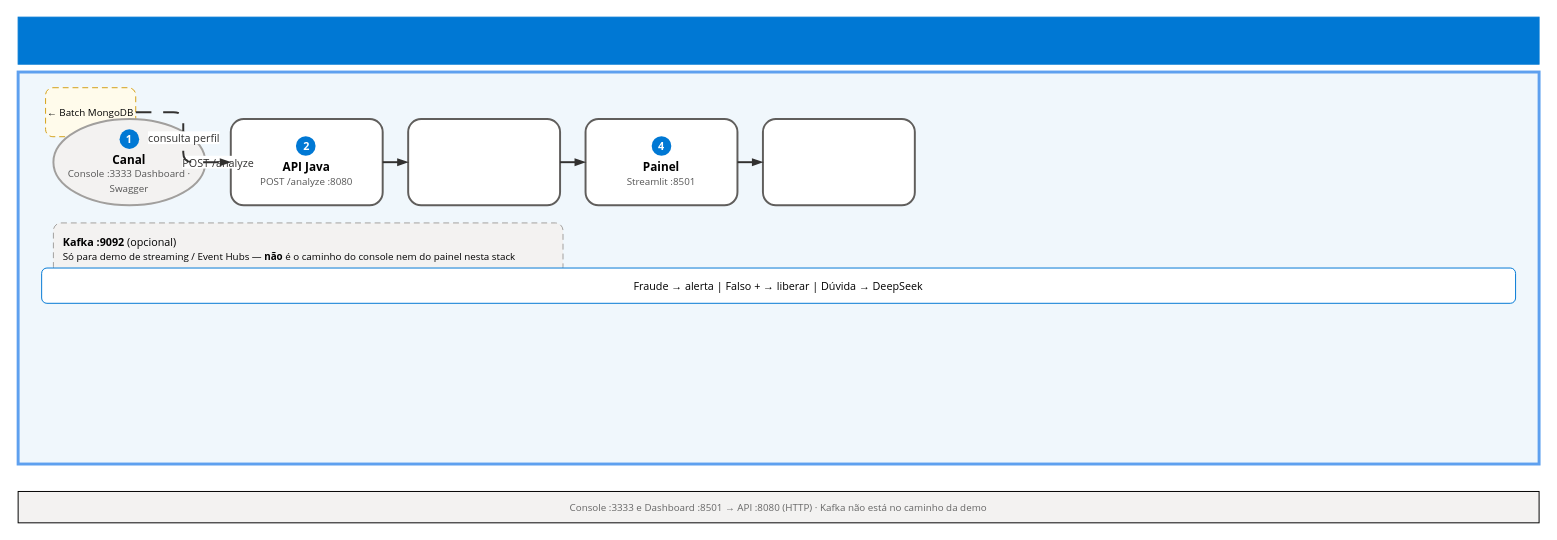
The diagram is 1557 pixels wide and 540 high, and some of its shapes have lost their labels. The shapes that lost their labels are listed below. From the top down, each one's centre as x and y in pixels, then its label:
(x=778, y=40): 02 — ARQUITETURA ONLINE Fluxo horizontal · tempo real
(x=484, y=162): 3 Decisão Score + perfil MongoDB
(x=838, y=162): 5 Analista Liberar · Chat DeepSeek
